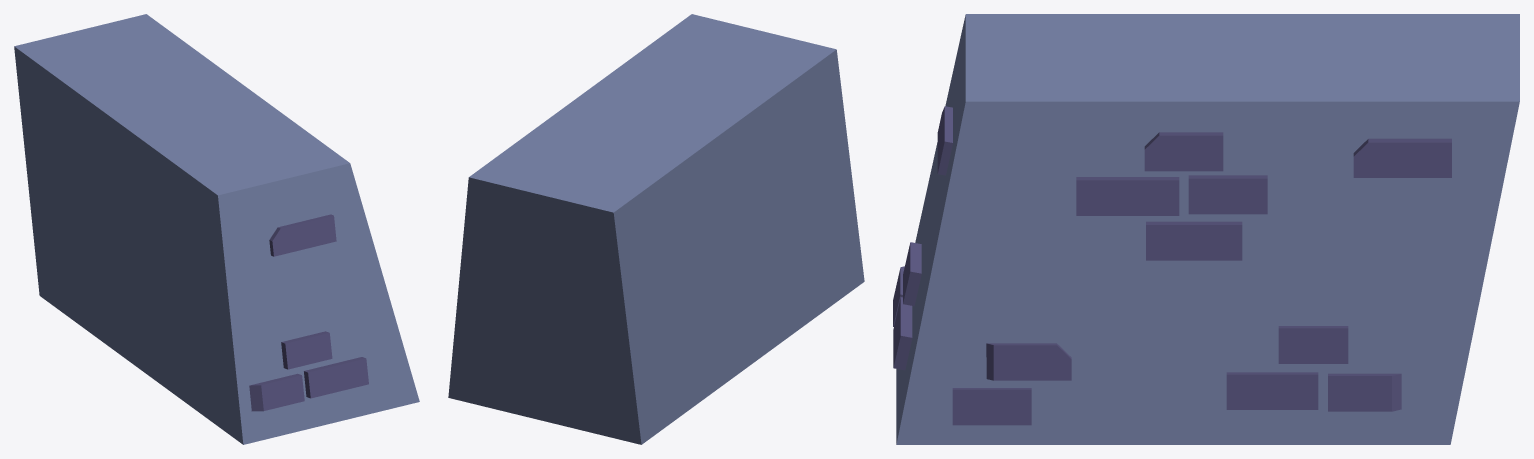
File: Wall_Base_Mid_End_01.fbx
3 renders of one model, left to right at view 1: azimuth 30°, elevation 25°; view 2: azimuth 150°, elevation 25°; view 3: azimuth 270°, elevation 25°, orthographic. The views are drawn at different scales.
Visible parts, largest first — view 1: Wall_Base_Mid_End_01; view 2: Wall_Base_Mid_End_01; view 3: Wall_Base_Mid_End_01.
Boxes of the visible parts, x1,y1,x2,y2 form: Wall_Base_Mid_End_01: [14, 14, 419, 444]; Wall_Base_Mid_End_01: [448, 14, 864, 444]; Wall_Base_Mid_End_01: [893, 14, 1519, 444].
Bounding box in the file's own units: 404 × 500 × 905.
